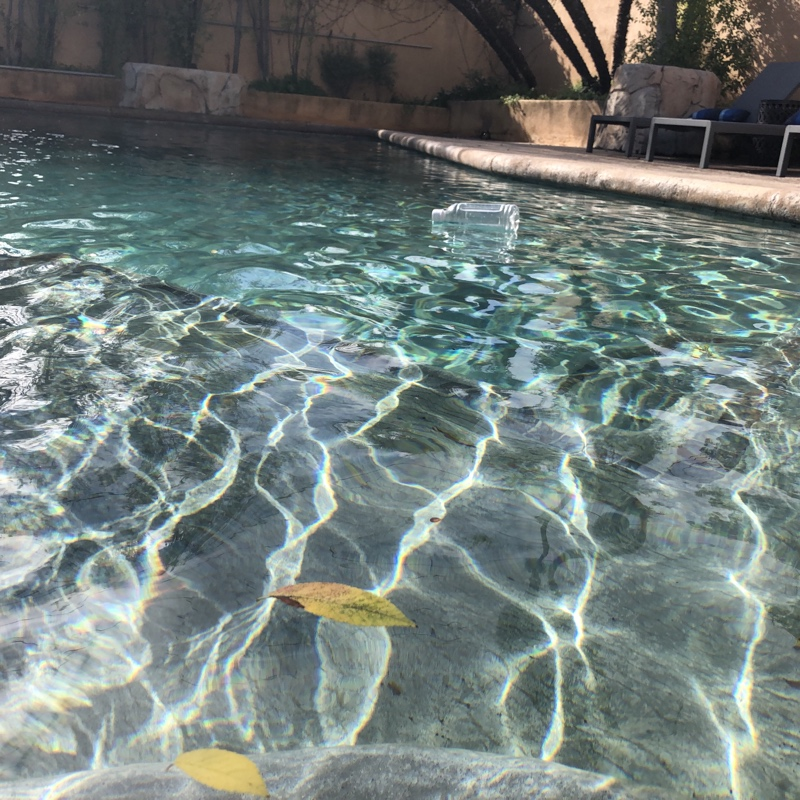Plastic Bottle: (428, 199, 523, 244)
